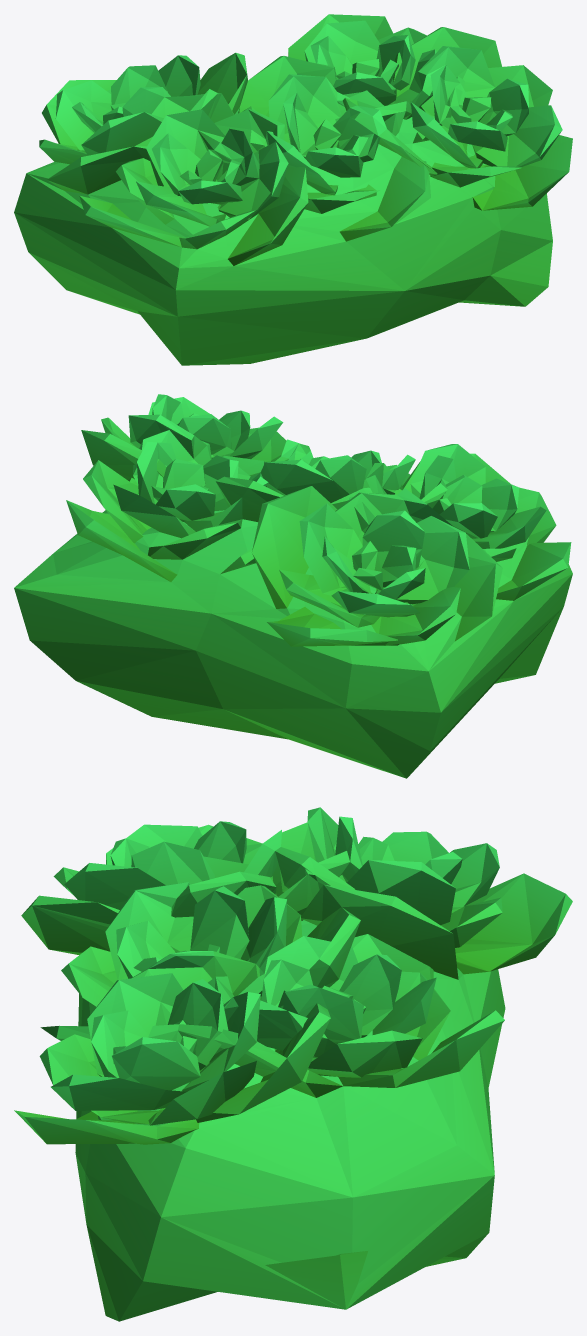
The model's file is lettuce_pile.fbx.
The picture shows the model from 3 angles, top to bottom: view 1: azimuth 30°, elevation 25°; view 2: azimuth 150°, elevation 25°; view 3: azimuth 270°, elevation 25°; orthographic projection. The views are drawn at different scales.
Visible parts, largest first — view 1: lettuce_pile; view 2: lettuce_pile; view 3: lettuce_pile.
Boxes of the visible parts, x1,y1,x2,y2 form: lettuce_pile: (14,14,572,365); lettuce_pile: (14,394,572,778); lettuce_pile: (14,807,572,1321).
Size of the model in its own units: 443 by 220 by 346.
